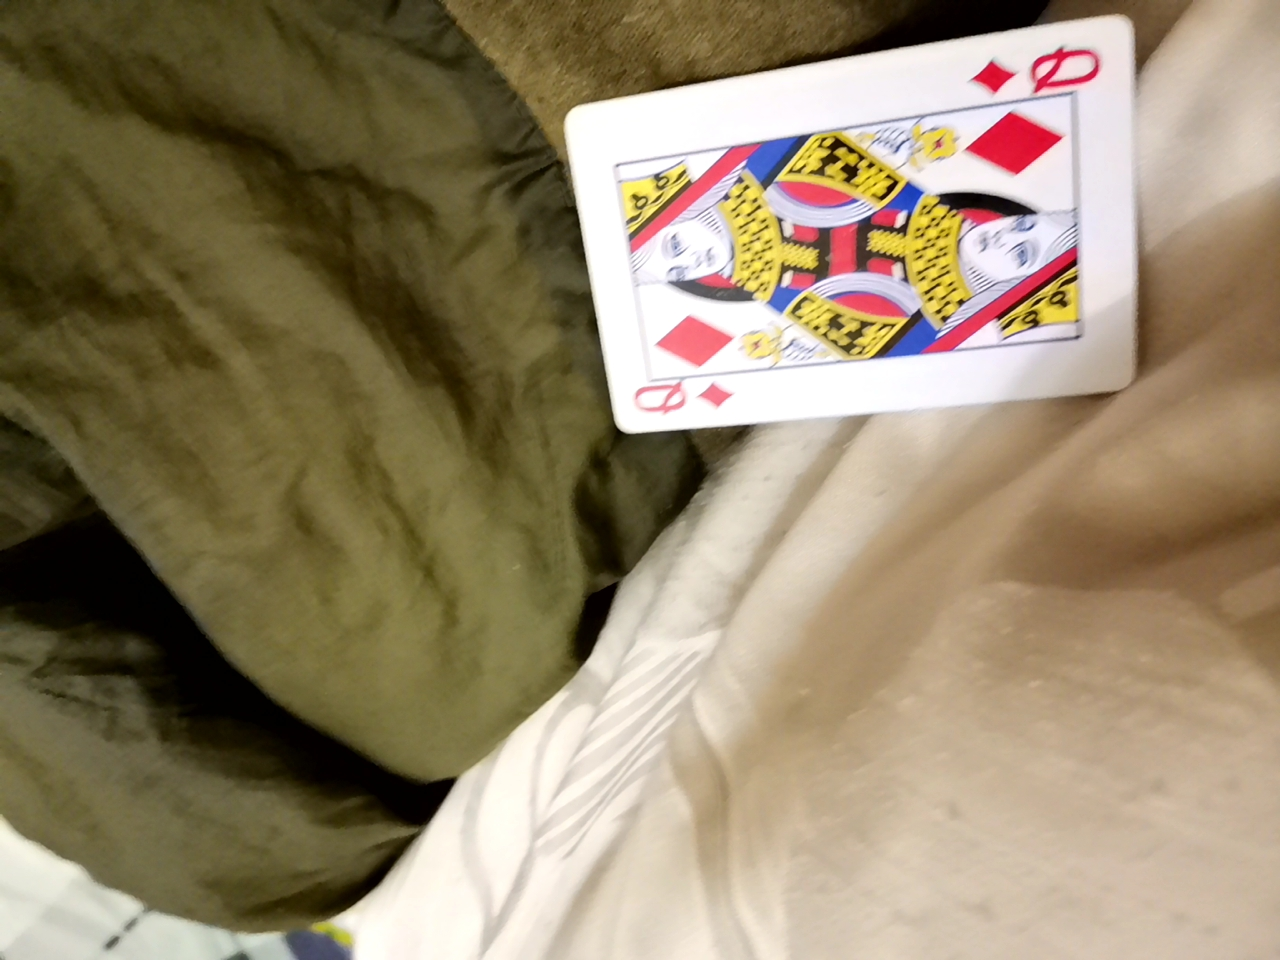fk q: (549, 44, 1095, 453)
